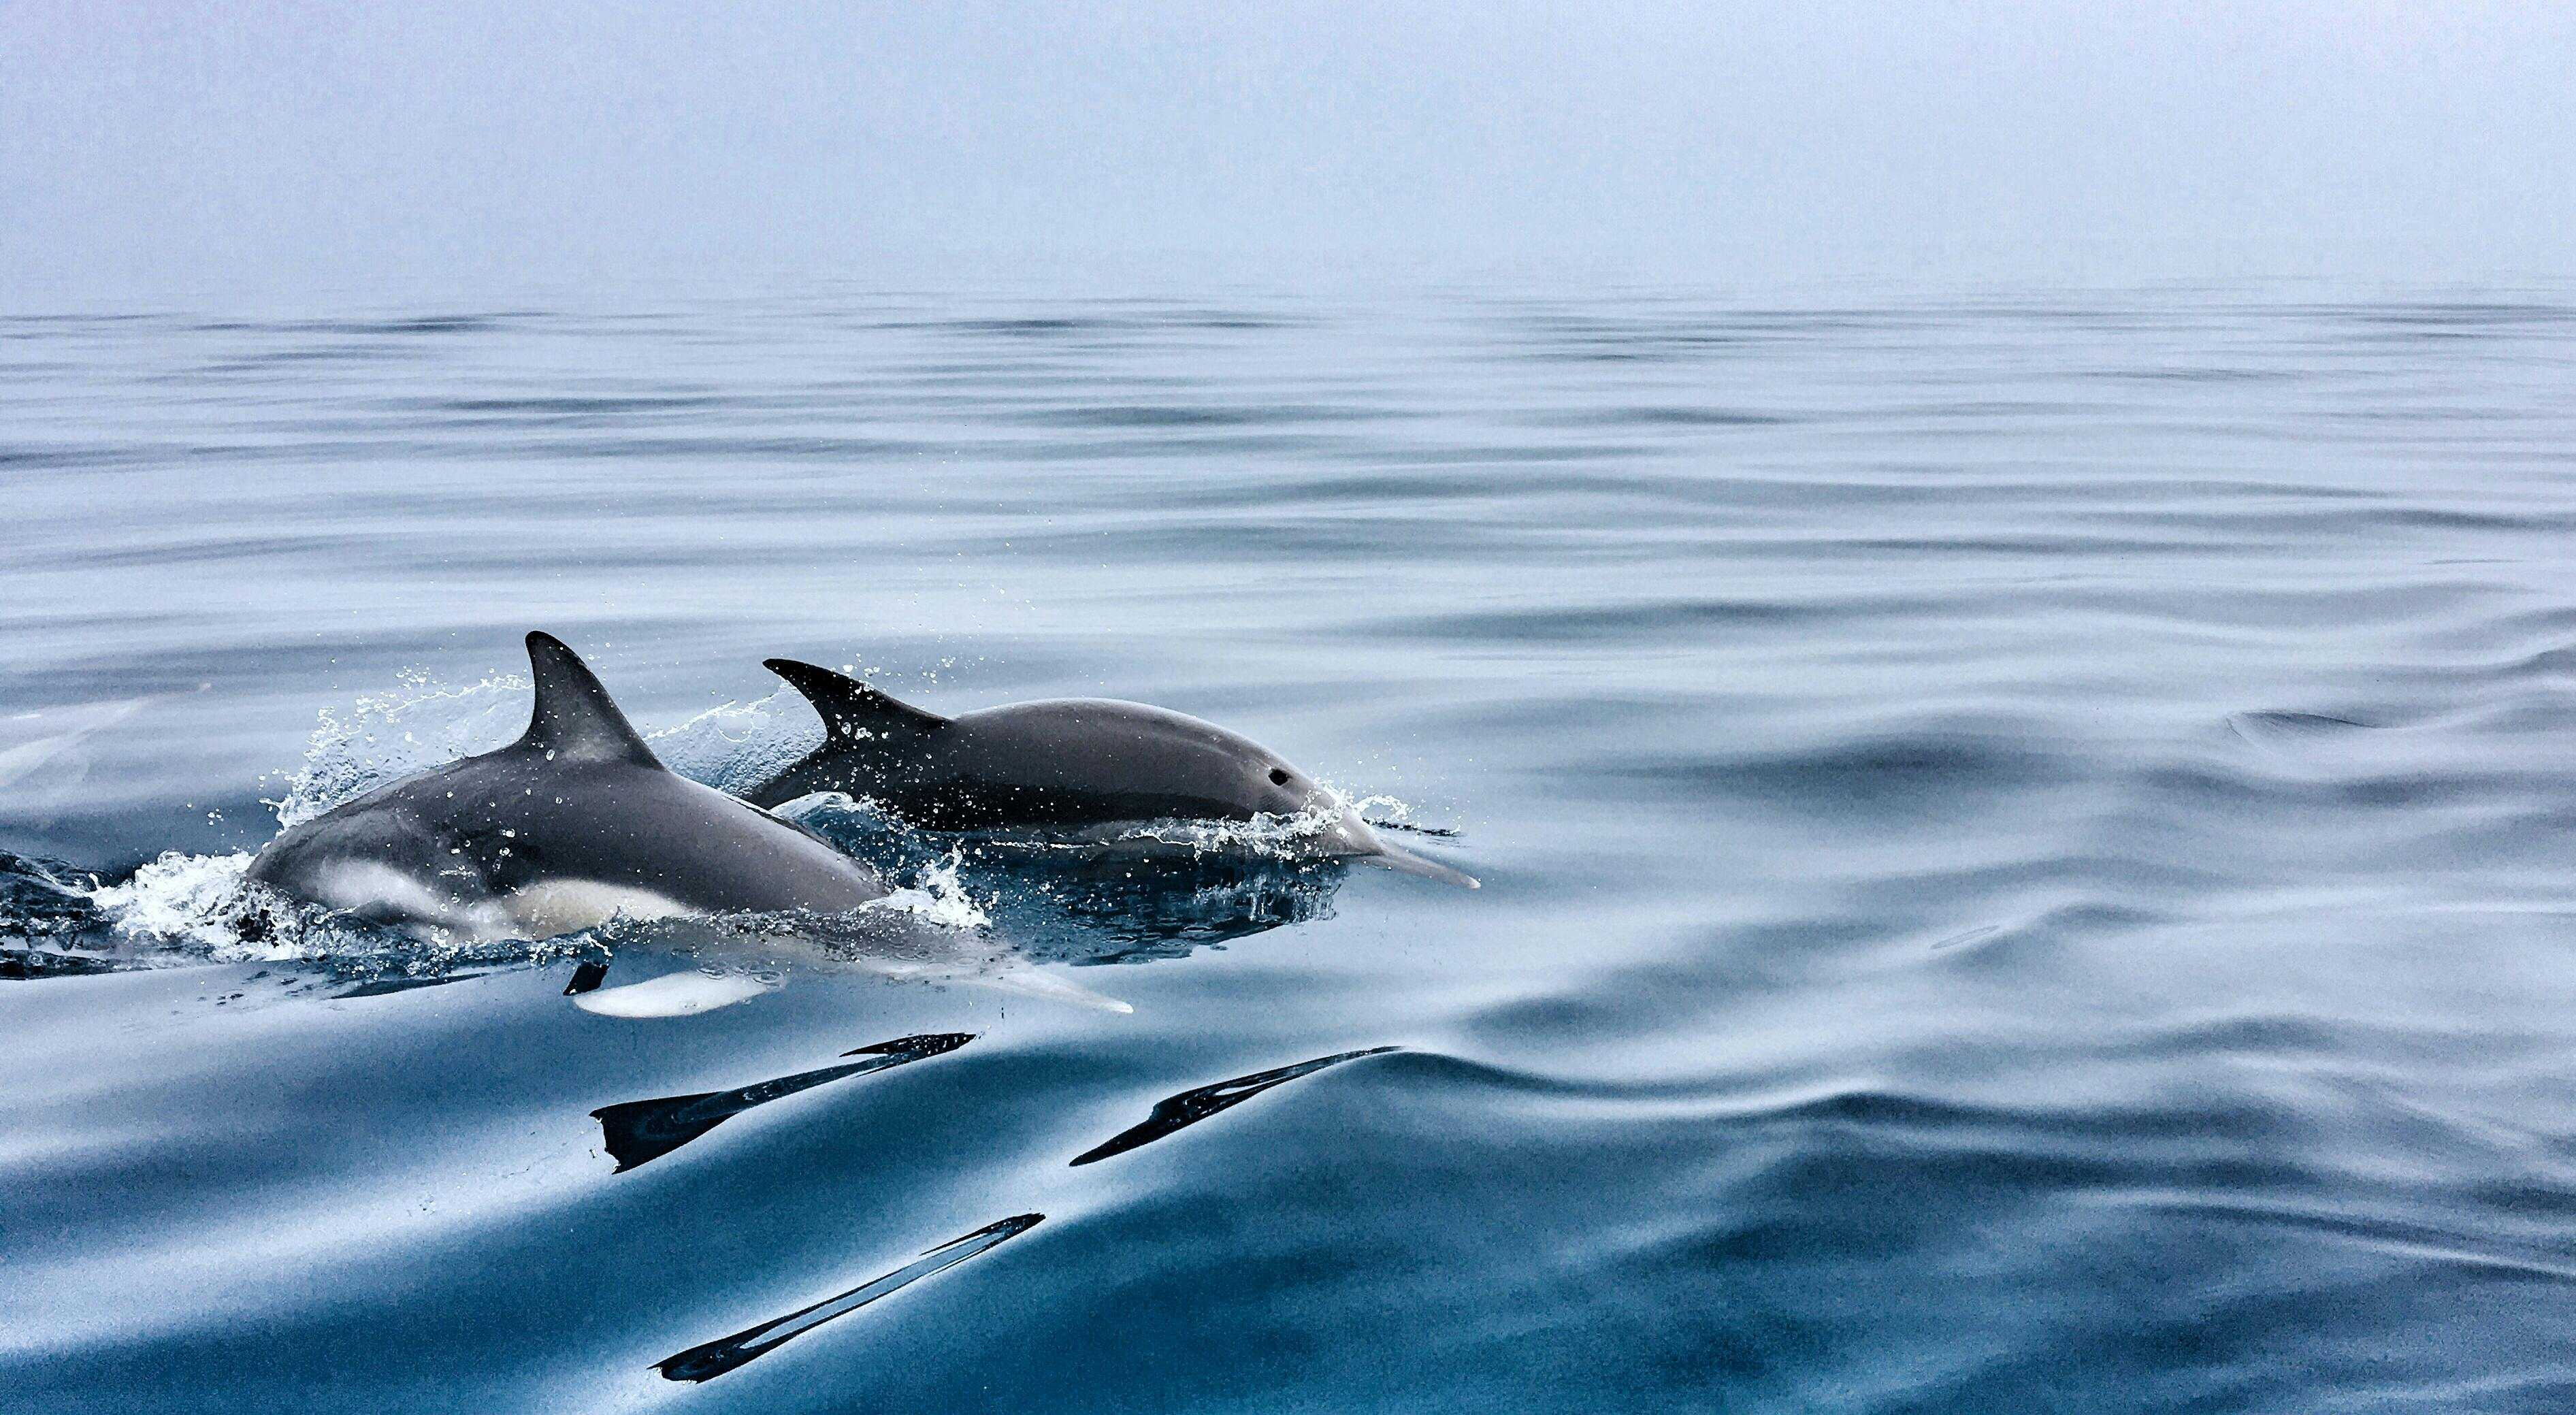dolphin: (226, 622, 1136, 1023), (730, 650, 1486, 894)
